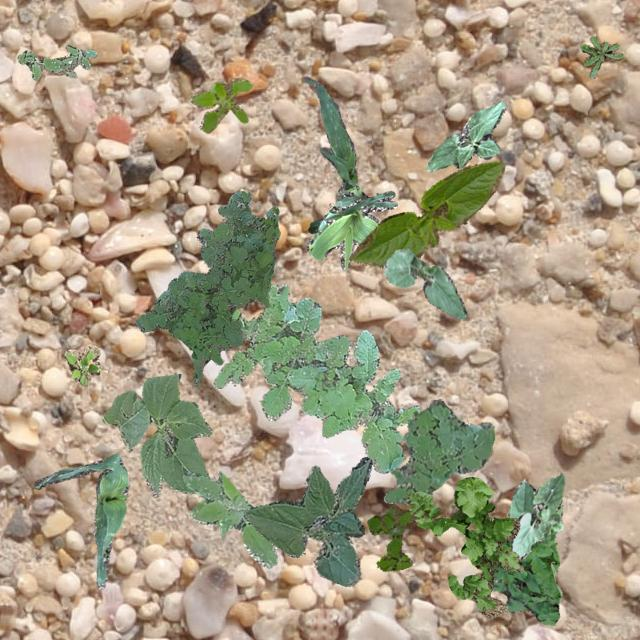crop: (348, 160, 504, 266), (244, 456, 370, 586), (100, 372, 210, 497), (34, 454, 128, 588), (302, 76, 356, 232), (306, 184, 396, 268), (384, 248, 466, 318), (424, 100, 504, 170), (508, 472, 564, 560)
weed: (212, 284, 420, 472), (134, 190, 278, 386), (406, 477, 522, 618), (382, 398, 493, 504), (182, 471, 276, 566), (491, 530, 562, 624), (190, 76, 252, 132), (366, 504, 412, 570), (16, 44, 96, 80), (580, 36, 622, 78), (64, 342, 100, 386)
